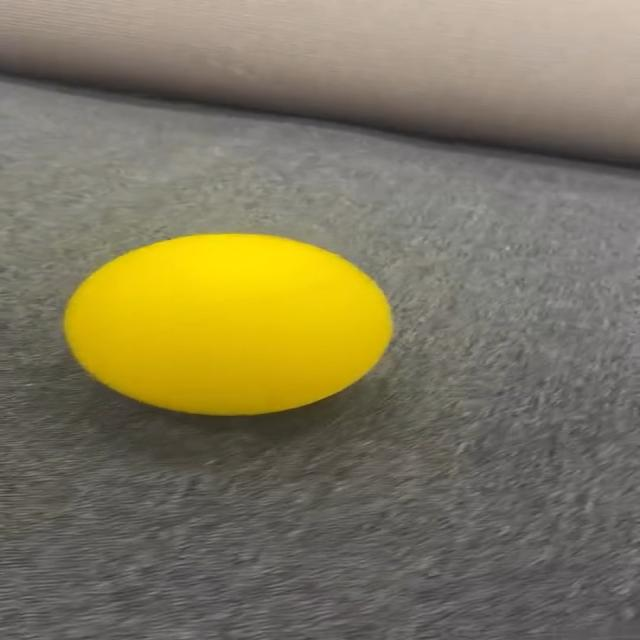Fuels: (66, 234, 393, 413)
